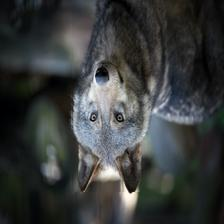WOLF: (71, 5, 150, 191)
